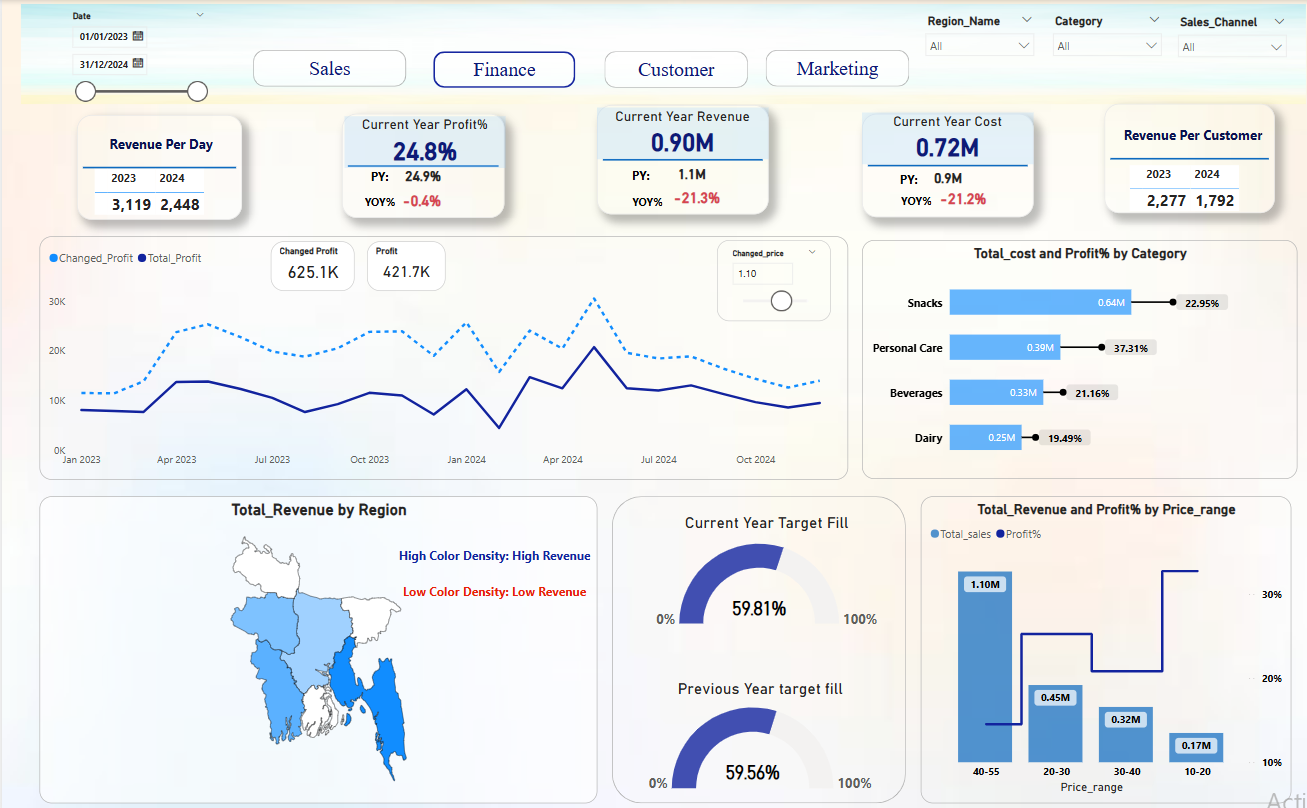

Layout of this report page (visuals, bound fields, positions):
{"tool":"powerbi","page":{"name":"Finance","canvas":[1600,1000],"ordinal":2},"visuals":[{"type":"shape","box":[744.8,606,358.9,375.1],"z":0},{"type":"lineChart","fields":{"Category":["Dim_Date.Start of Month"],"Y":["_Measure_.Changed_Amount","_Measure_.Total_Profit"]},"box":[45.8,288.6,988.1,297.8],"z":1000},{"type":"shape","box":[726.8,128,209.2,133.5],"z":2000},{"type":"image","box":[18.2,0,1580.7,132.3],"z":3000},{"type":"shape","box":[1347.6,127.3,208.3,133.9],"z":4000},{"type":"card","title":"Current Year Revenue","fields":{"Values":["_Measure_.Current_year_Revenue"]},"box":[726.8,131.7,209.2,63.1],"z":5000},{"type":"card","fields":{"Values":["_Measure_.Previous_Year_revenue"]},"box":[773.7,185.8,137.1,54.1],"z":6000},{"type":"card","fields":{"Values":["_Measure_.Revenue_change"]},"box":[804.3,218.2,88.4,46.9],"z":7000},{"type":"shape","box":[750.2,191.2,61.3,45.1],"z":8000},{"type":"shape","box":[744.8,220,86.6,50.5],"z":9000},{"type":"shape","box":[415,138.9,198.4,127.3],"z":10000},{"type":"shape","box":[272.8,61.2,153.8,44.6],"z":11000},{"type":"shape","box":[446.4,61.2,143.8,44.6],"z":12000},{"type":"shape","box":[613.4,61.2,152.1,44.6],"z":13000},{"type":"shape","box":[785.4,61.2,138.9,44.6],"z":14000},{"type":"shape","box":[1051.4,138.9,209.2,126.2],"z":15000},{"type":"shape","box":[92,140.7,202,128],"z":16000},{"type":"slicer","fields":{"Values":["Parameter.Parameter"]},"box":[872.9,294,138.9,99.2],"z":17000},{"type":"clusteredBarChart","title":"Total_cost and Profit% by Category","fields":{"Category":["Dim_Products.Category"],"Y":["_Measure_.Total_cost"]},"box":[1051.4,294,532,292.2],"z":18000},{"type":"lineStackedColumnComboChart","title":"Total_Revenue and Profit% by Price_range","fields":{"Category":["Dim_Products.Price_range"],"Y2":["_Measure_.Profit%"],"Y":["_Measure_.Total_sales"]},"box":[1121.7,606,452.7,375.1],"z":19000},{"type":"gauge","title":"Current Year Target Fill","fields":{"Y":["_Measure_.target%"],"MaxValue":["_Measure_.0_Measure"]},"box":[789.3,627.6,289.8,154.7],"z":20000},{"type":"card","title":"Changed Profit","fields":{"Values":["_Measure_.Changed_Amount"]},"box":[328.3,294.7,102.3,61.1],"z":21000},{"type":"card","title":"Profit","fields":{"Values":["_Measure_.Total_Profit"]},"box":[445.9,294.7,96.2,61.1],"z":22000},{"type":"shapeMap","title":"Total_Revenue by Region","fields":{"Value":["_Measure_.Total_sales"],"Category":["Dim_Region.Region_Name"]},"box":[45.1,606,681.7,375.1],"z":23000},{"type":"gauge","title":"Previous Year target fill","fields":{"Y":["_Measure_.target%"],"MaxValue":["_Measure_.0_Measure"]},"box":[780.9,831.4,292.2,149.7],"z":24000},{"type":"card","title":"Current Year Cost","fields":{"Values":["_Measure_.Current_Year_ Cost"]},"box":[1051.4,137.1,209.2,63.1],"z":25000},{"type":"card","fields":{"Values":["_Measure_.Previous_Year_ Cost"]},"box":[1087.5,191.2,137.1,54.1],"z":26000},{"type":"card","fields":{"Values":["_Measure_.cost_change"]},"box":[1130.8,220,88.4,46.9],"z":27000},{"type":"shape","box":[1087.5,229,59.5,32.5],"z":28000},{"type":"shape","box":[1069.4,194.8,77.5,45.1],"z":29000},{"type":"card","title":"Current Year Profit%","fields":{"Values":["_Measure_.Current_year_profit"]},"box":[418.3,142.2,196.8,62.8],"z":30000},{"type":"card","fields":{"Values":["_Measure_.Previous_Year_Profit"]},"box":[445.5,189.4,137.1,54.1],"z":31000},{"type":"card","fields":{"Values":["_Measure_.pro_change"]},"box":[468.9,223.6,88.4,46.9],"z":32000},{"type":"shape","box":[431,193,61.3,45.1],"z":33000},{"type":"shape","box":[418.4,220,86.6,50.5],"z":34000},{"type":"pivotTable","fields":{"Columns":["Dim_Date.Year"],"Values":["_Measure_.Revenue_per_Day"]},"box":[108.2,202,185.8,92],"z":35000},{"type":"pivotTable","fields":{"Columns":["Dim_Date.Year"],"Values":["_Measure_.Revenue_per_Customer"]},"box":[1372.4,196.6,185.8,92],"z":36000},{"type":"shape","box":[115.4,137.1,156.9,75.7],"z":37000},{"type":"shape","box":[1361.6,126.2,185.8,75.7],"z":38000},{"type":"slicer","fields":{"Values":["Dim_Date.Date"]},"box":[73.3,7.6,186.3,120.6],"z":39000},{"type":"slicer","fields":{"Values":["Dim_Region.Region_Name"]},"box":[1118.1,12.6,153.3,70.3],"z":40000},{"type":"slicer","fields":{"Values":["Dim_Products.Category"]},"box":[1273.2,12.6,153.3,70.3],"z":41000},{"type":"slicer","fields":{"Values":["Fact_Sales.Sales_Channel"]},"box":[1426.5,14.4,153.3,70.3],"z":42000},{"type":"shape","box":[476.1,606,250.7,142.5],"z":43000},{"type":"shape","box":[476.1,651,250.7,142.5],"z":44000},{"type":"shape","box":[942.5,61.2,140.5,44.6],"z":45000}]}

Visuals, with their boxes in screenshot pixels (x1, y1, x2, y2), scaled from the page's 1600x1000 canvas onto the 1307x808 screenshot:
shape: x1=608, y1=490, x2=902, y2=793
lineChart - Dim_Date.Start of Month x _Measure_.Changed_Amount: x1=37, y1=233, x2=845, y2=474
shape: x1=594, y1=103, x2=765, y2=211
image: x1=15, y1=0, x2=1306, y2=107
shape: x1=1101, y1=103, x2=1271, y2=211
"Current Year Revenue" card: x1=594, y1=106, x2=765, y2=157
card - _Measure_.Previous_Year_revenue: x1=632, y1=150, x2=744, y2=194
card - _Measure_.Revenue_change: x1=657, y1=176, x2=729, y2=214
shape: x1=613, y1=154, x2=663, y2=191
shape: x1=608, y1=178, x2=679, y2=219
shape: x1=339, y1=112, x2=501, y2=215
shape: x1=223, y1=49, x2=348, y2=85
shape: x1=365, y1=49, x2=482, y2=85
shape: x1=501, y1=49, x2=625, y2=85
shape: x1=642, y1=49, x2=755, y2=85
shape: x1=859, y1=112, x2=1030, y2=214
shape: x1=75, y1=114, x2=240, y2=217
slicer - Parameter.Parameter: x1=713, y1=238, x2=827, y2=318
"Total_cost and Profit% by Category" clusteredBarChart: x1=859, y1=238, x2=1293, y2=474
"Total_Revenue and Profit% by Price_range" lineStackedColumnComboChart: x1=916, y1=490, x2=1286, y2=793
"Current Year Target Fill" gauge: x1=645, y1=507, x2=881, y2=632
"Changed Profit" card: x1=268, y1=238, x2=352, y2=287
"Profit" card: x1=364, y1=238, x2=443, y2=287
"Total_Revenue by Region" shapeMap: x1=37, y1=490, x2=594, y2=793
"Previous Year target fill" gauge: x1=638, y1=672, x2=877, y2=793
"Current Year Cost" card: x1=859, y1=111, x2=1030, y2=162
card - _Measure_.Previous_Year_ Cost: x1=888, y1=154, x2=1000, y2=198
card - _Measure_.cost_change: x1=924, y1=178, x2=996, y2=216
shape: x1=888, y1=185, x2=937, y2=211
shape: x1=874, y1=157, x2=937, y2=194
"Current Year Profit%" card: x1=342, y1=115, x2=502, y2=166
card - _Measure_.Previous_Year_Profit: x1=364, y1=153, x2=476, y2=197
card - _Measure_.pro_change: x1=383, y1=181, x2=455, y2=219
shape: x1=352, y1=156, x2=402, y2=192
shape: x1=342, y1=178, x2=413, y2=219
pivotTable - Dim_Date.Year x _Measure_.Revenue_per_Day: x1=88, y1=163, x2=240, y2=238
pivotTable - Dim_Date.Year x _Measure_.Revenue_per_Customer: x1=1121, y1=159, x2=1273, y2=233
shape: x1=94, y1=111, x2=222, y2=172
shape: x1=1112, y1=102, x2=1264, y2=163
slicer - Dim_Date.Date: x1=60, y1=6, x2=212, y2=104
slicer - Dim_Region.Region_Name: x1=913, y1=10, x2=1039, y2=67
slicer - Dim_Products.Category: x1=1040, y1=10, x2=1165, y2=67
slicer - Fact_Sales.Sales_Channel: x1=1165, y1=12, x2=1290, y2=68
shape: x1=389, y1=490, x2=594, y2=605
shape: x1=389, y1=526, x2=594, y2=641
shape: x1=770, y1=49, x2=885, y2=85
